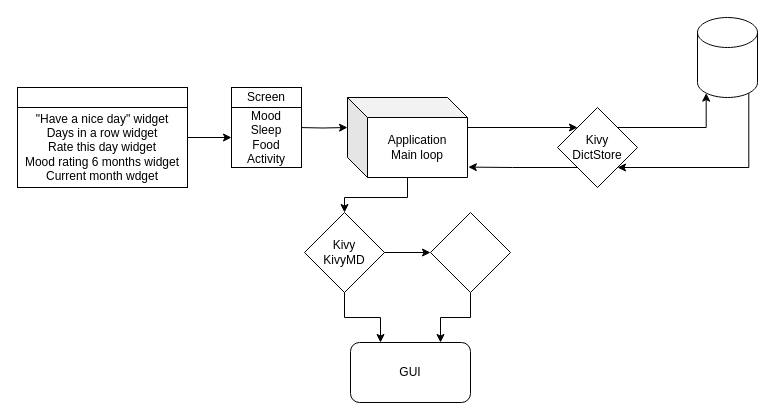
This 775x420 diagram has some shape labels left out. The box of each missing label's shape, as (x1, y1, x2, y2) in pixels:
Garden Matplotlib: (430, 212, 510, 292)
Store.dict: (696, 16, 758, 98)
Widgets: (16, 86, 188, 108)
